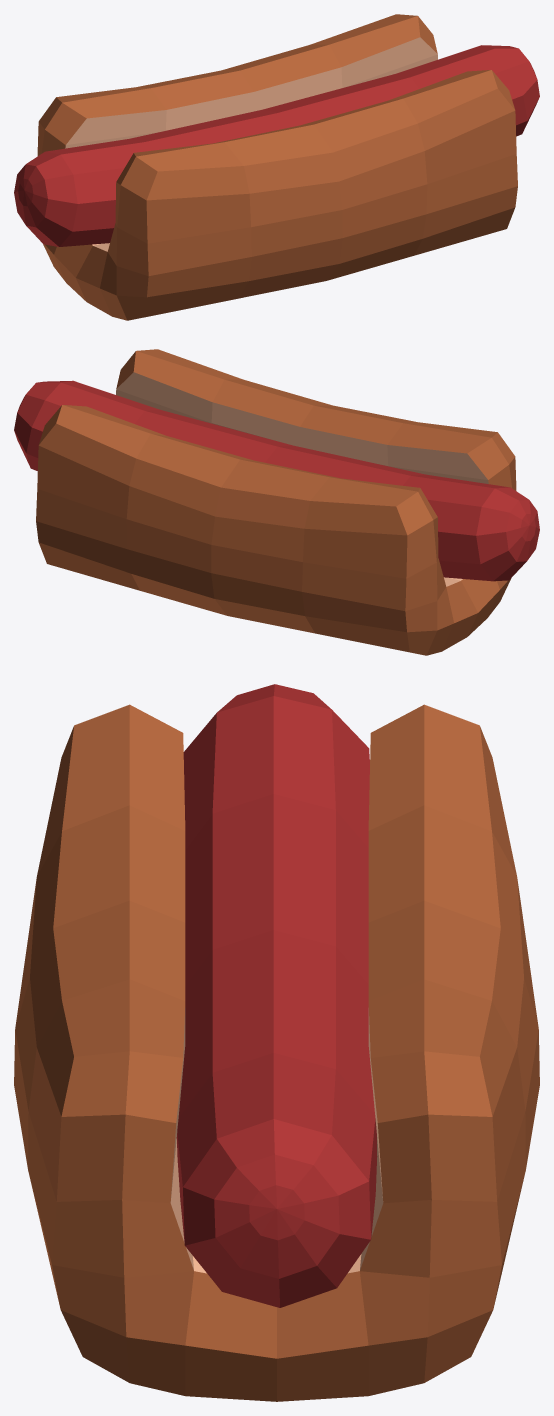
The model's file is Hotdog.fbx.
3 views of the same model, one above another, from view 1: azimuth 30°, elevation 25°; view 2: azimuth 150°, elevation 25°; view 3: azimuth 270°, elevation 25° (orthographic). The views are drawn at different scales.
Parts seen in each view (by area): view 1: Cube.001, Cylinder.001; view 2: Cube.001, Cylinder.001; view 3: Cube.001, Cylinder.001.
Boxes of the visible parts, x1,y1,x2,y2 form: Cube.001: (37,14,517,320); Cylinder.001: (14,45,539,246); Cube.001: (36,349,516,655); Cylinder.001: (14,380,539,581); Cube.001: (14,704,539,1401); Cylinder.001: (176,684,377,1307).
Bounding box in the file's own units: 12.78 × 5.74 × 4.18.
